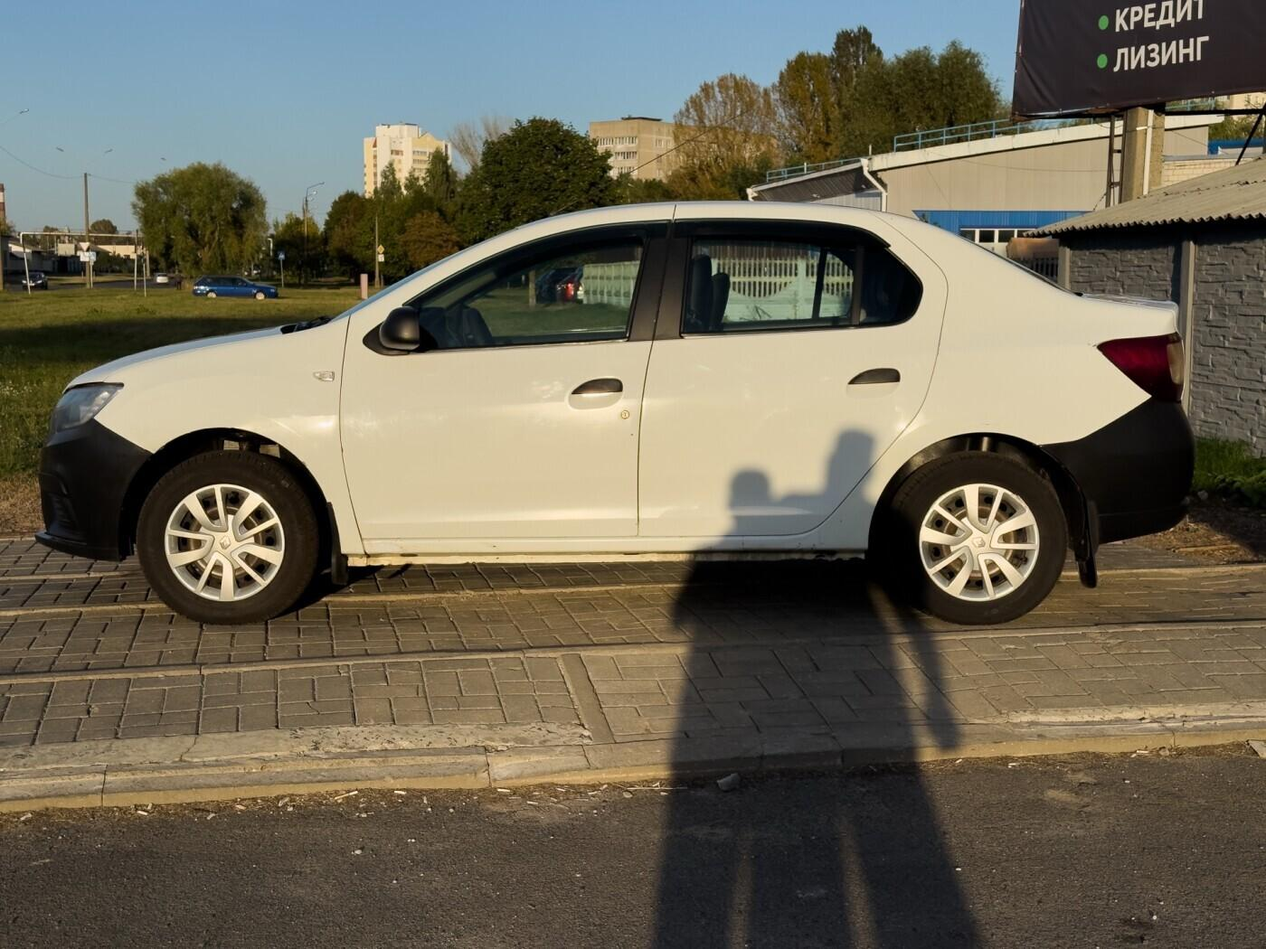Logan_2018: (28, 187, 1219, 627)
